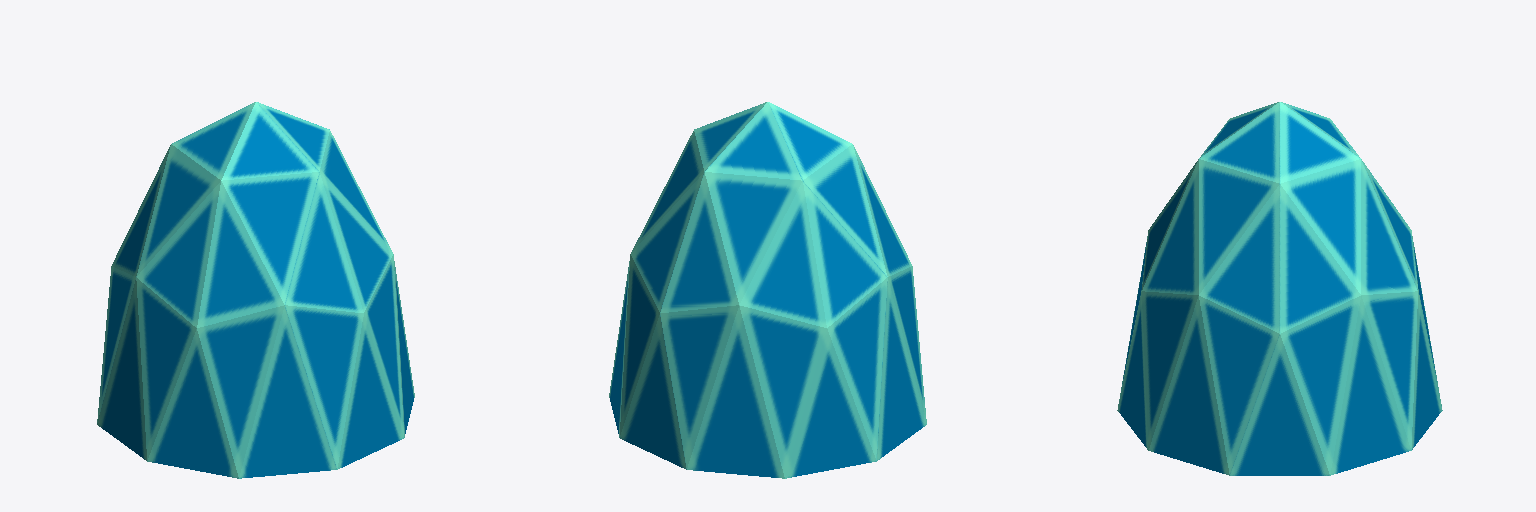
3 renders of one model, left to right at view 1: azimuth 30°, elevation 25°; view 2: azimuth 150°, elevation 25°; view 3: azimuth 270°, elevation 25°, orthographic.
Bounding box in the file's own units: 1.9 × 2.1 × 2.
1 materials, 1 textured.